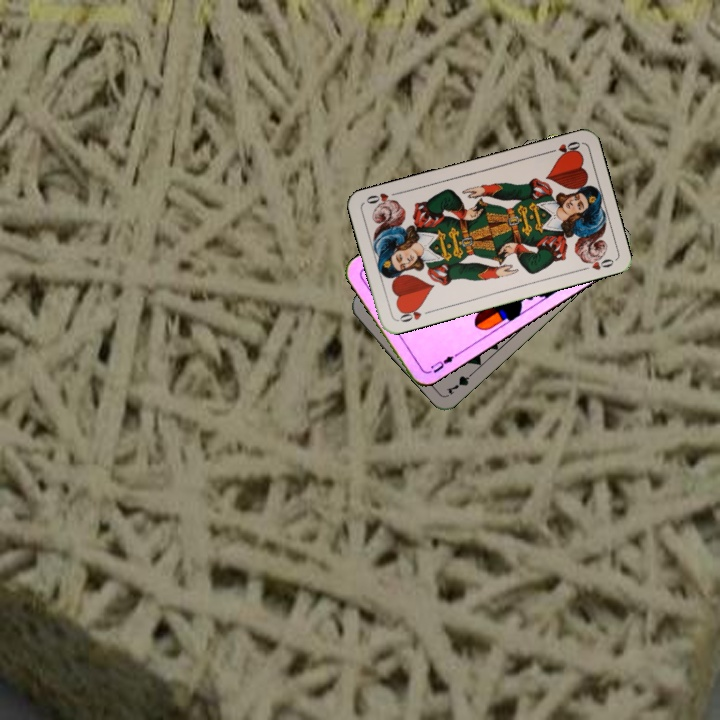EU: (423, 349, 460, 376)
G7: (442, 366, 478, 397)
HO: (394, 302, 434, 325), (543, 137, 583, 159)
